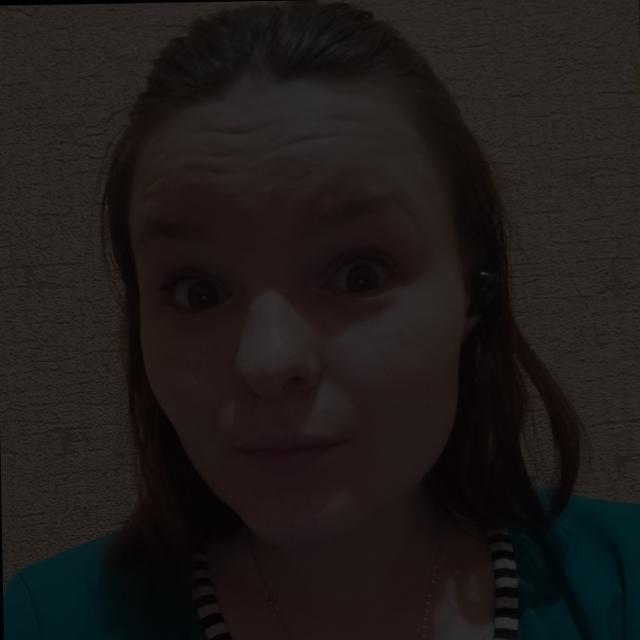Surprised: (70, 36, 502, 539)
